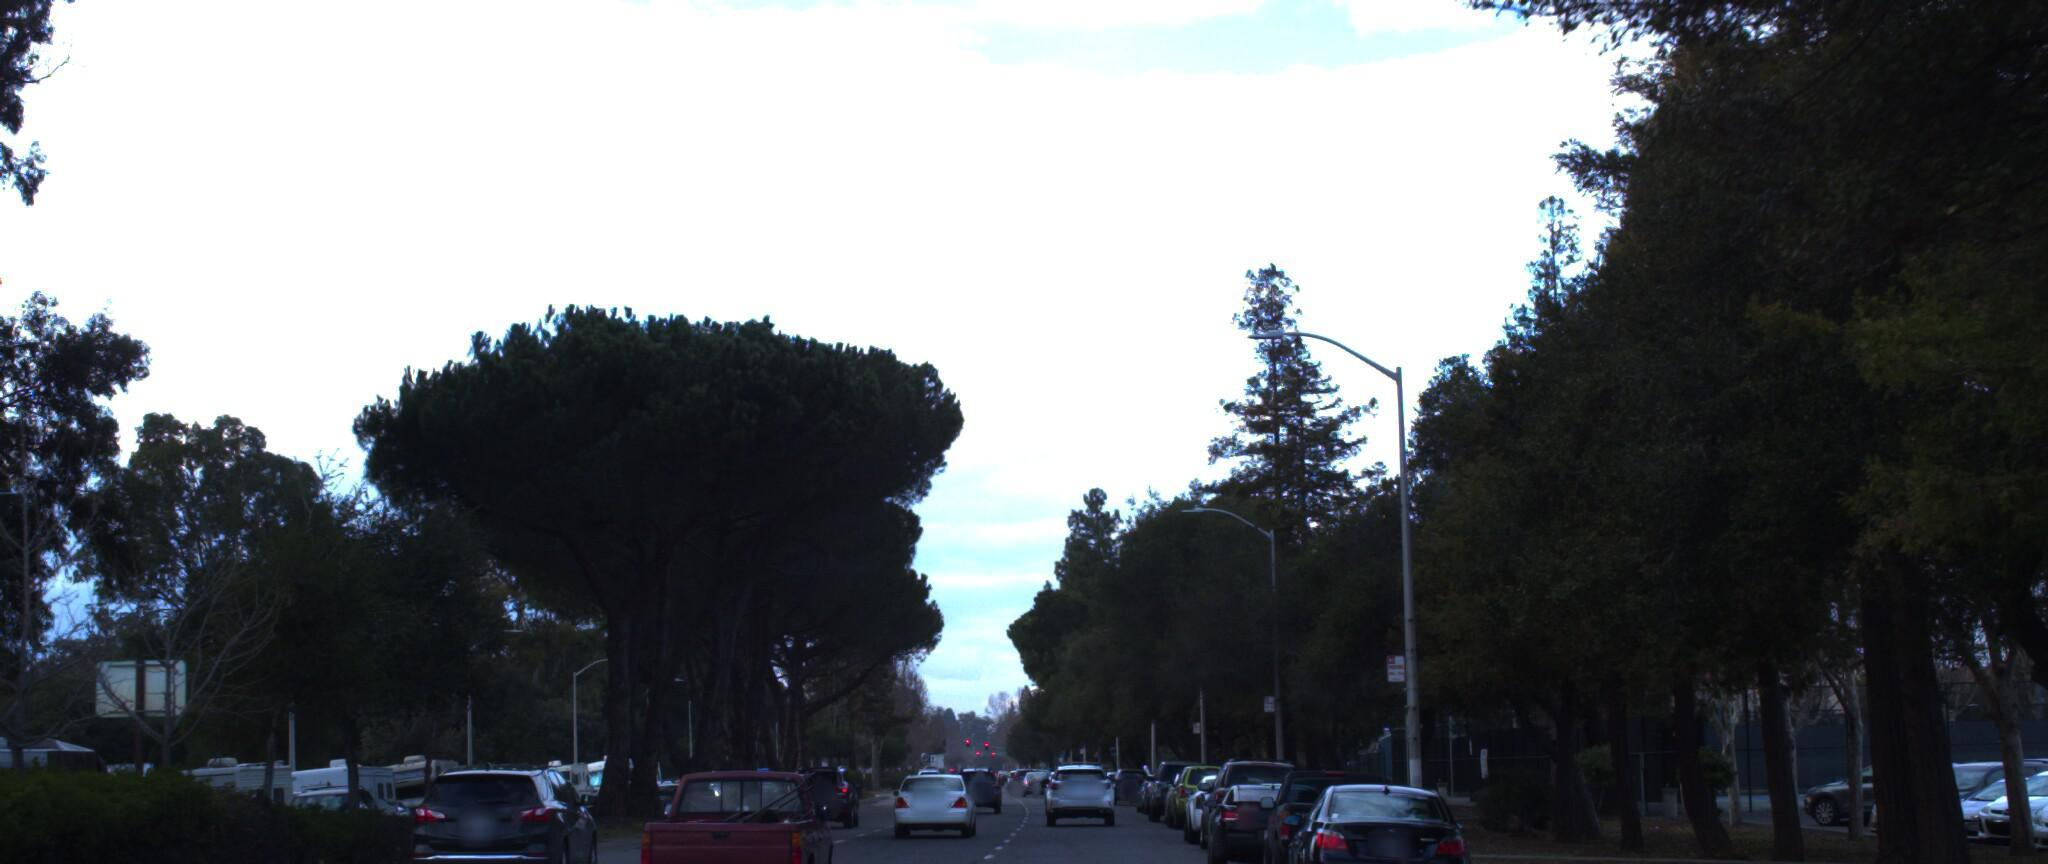car: (609, 750, 832, 864), (408, 752, 616, 864), (1266, 762, 1472, 864), (1246, 754, 1401, 864), (1190, 767, 1315, 861), (889, 750, 980, 833), (1140, 747, 1225, 817), (786, 749, 862, 818), (1048, 744, 1115, 809)
